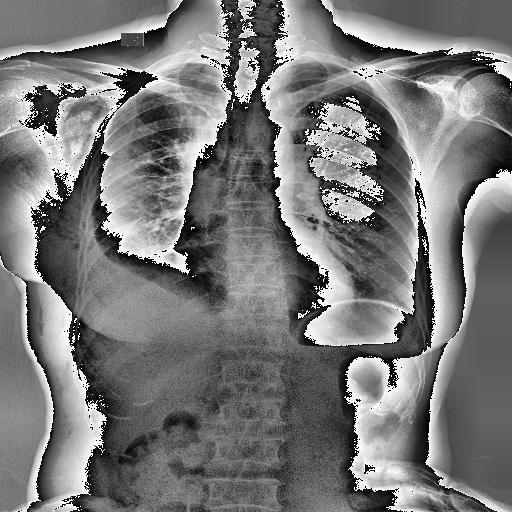10- Pleural effusion: (70, 207, 212, 329), (74, 182, 186, 322), (77, 216, 199, 328)
7- Lung Opacity: (94, 210, 192, 294), (94, 212, 160, 260)
9- Other lesion: (6, 68, 102, 211), (22, 82, 108, 228), (34, 296, 76, 439), (33, 302, 47, 340)
